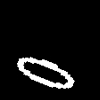chain: (17, 57, 73, 87)
